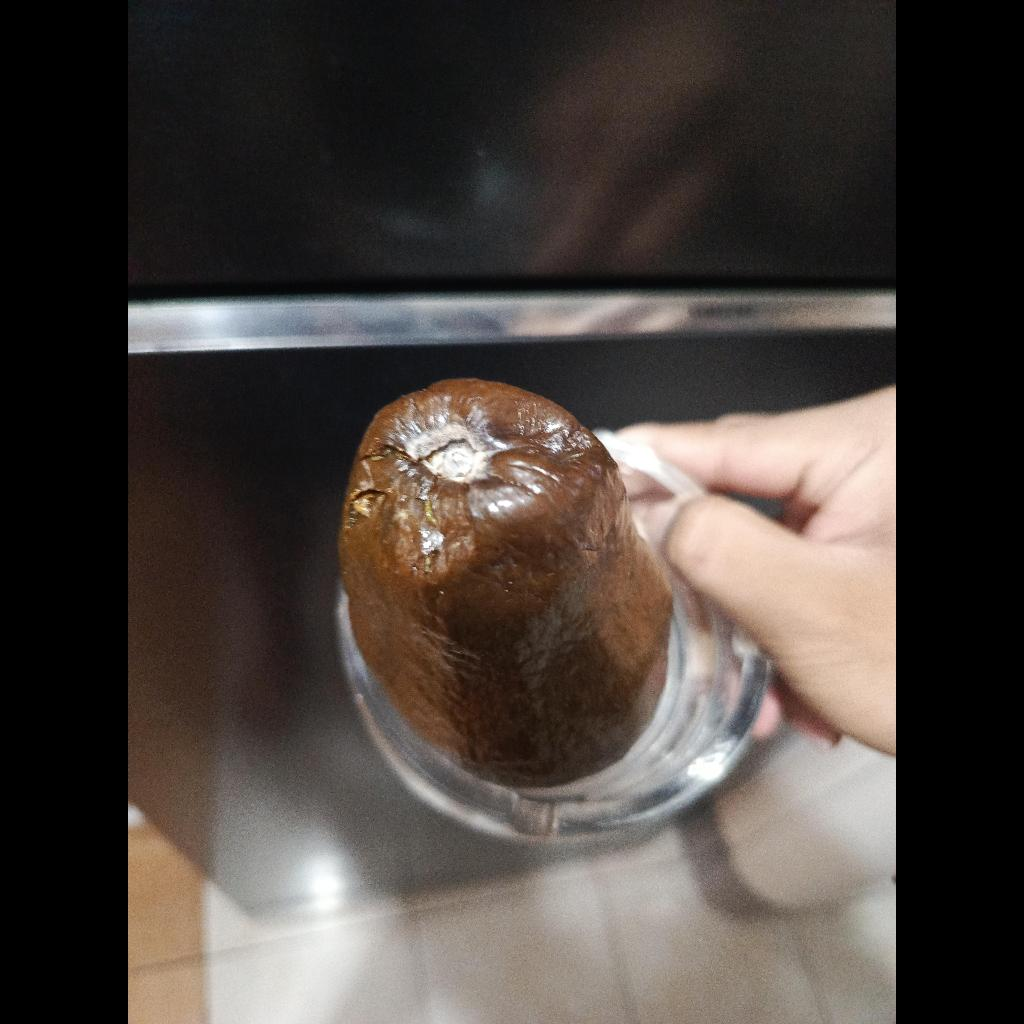pudricion_peduncular: (339, 379, 672, 786)
